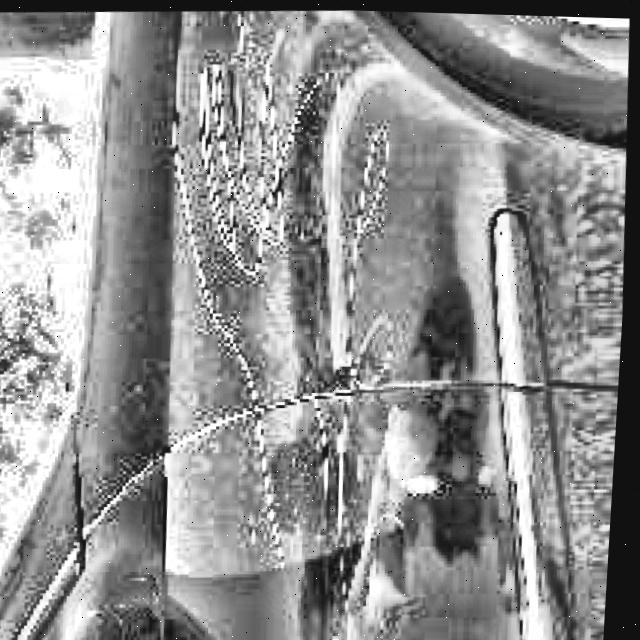door_scratch: (169, 36, 328, 287)
